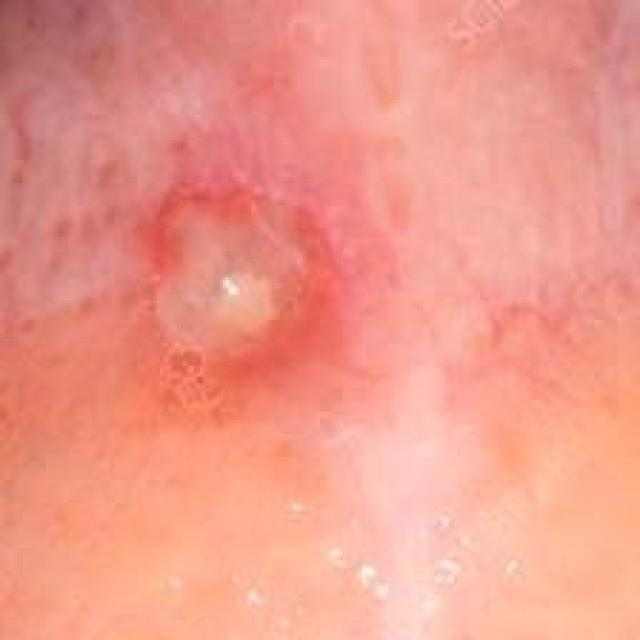others: (12, 0, 631, 640)
